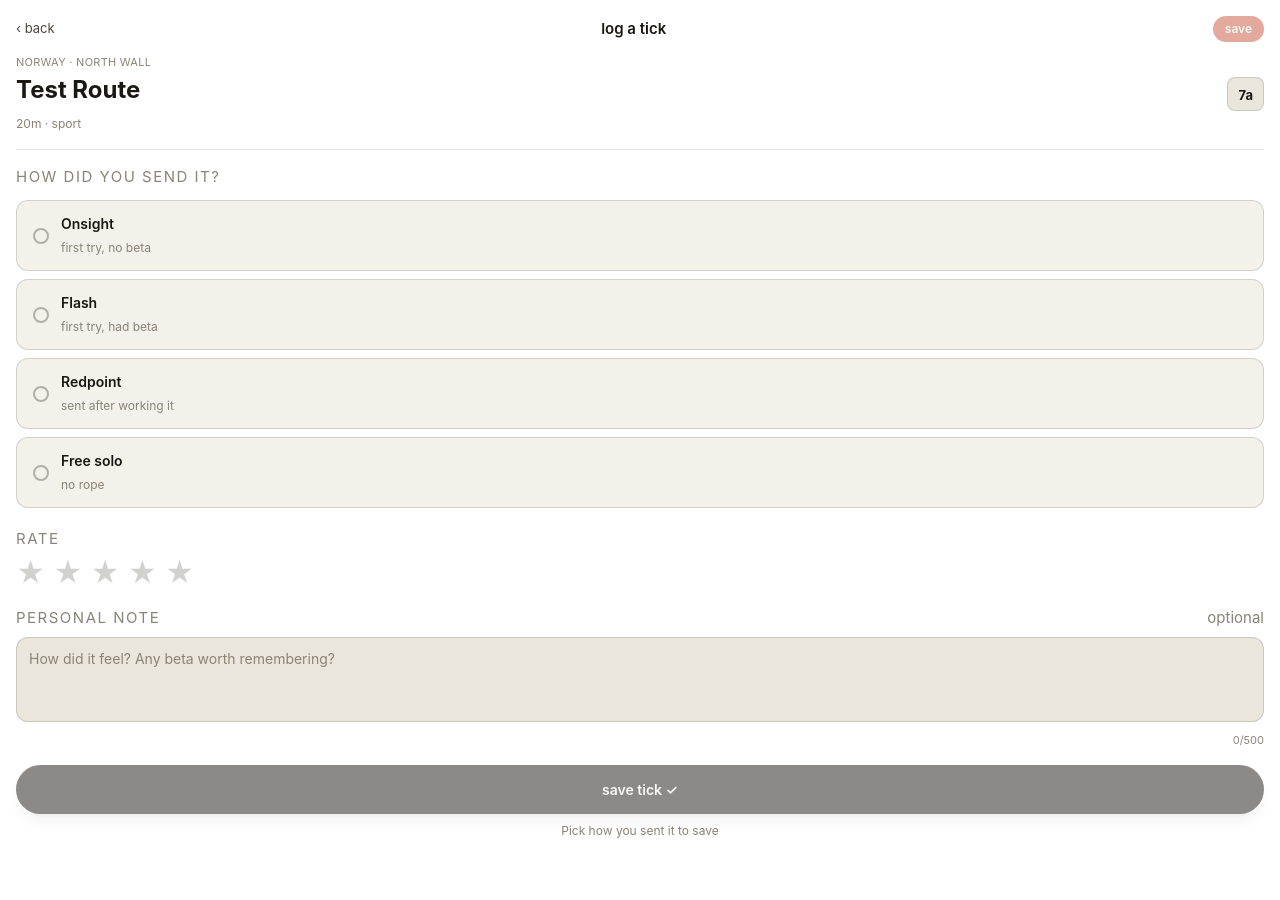
LogTickPage validation › disables Save until a send style is chosen
This screenshot has width=1280, height=900.
Expected: the button "save" is disabled, [1213, 16, 1264, 42]
Expected: the button "save tick ✓" is disabled, [16, 764, 1264, 814]
Click the button "Onsight first try, no beta".
click(87, 224)  # box [16, 200, 1264, 271]
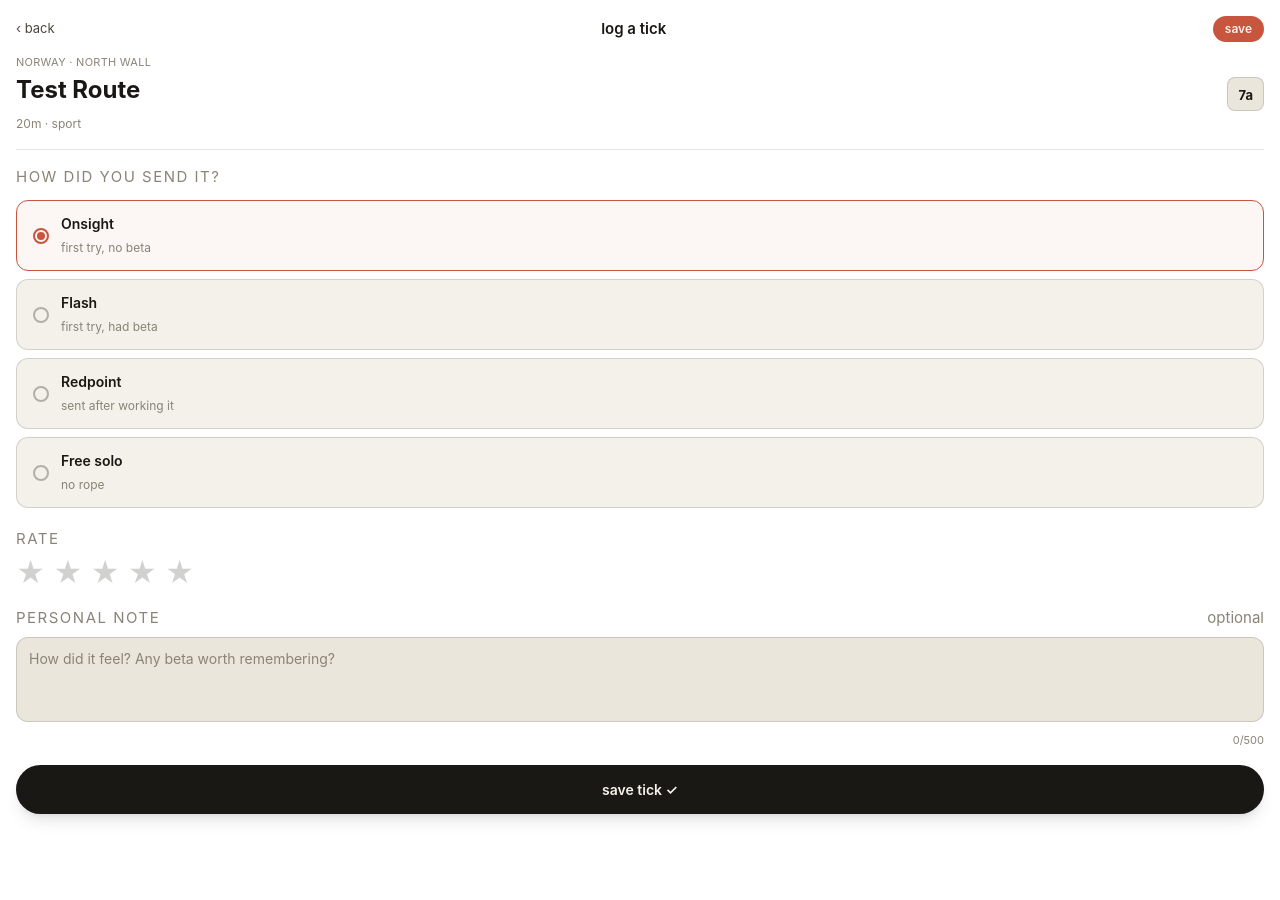
Now the button "save" is enabled, box [1213, 16, 1264, 42]
Now the button "save tick ✓" is enabled, box [16, 764, 1264, 814]
Now the text "Pick how you sent it to save" is gone
